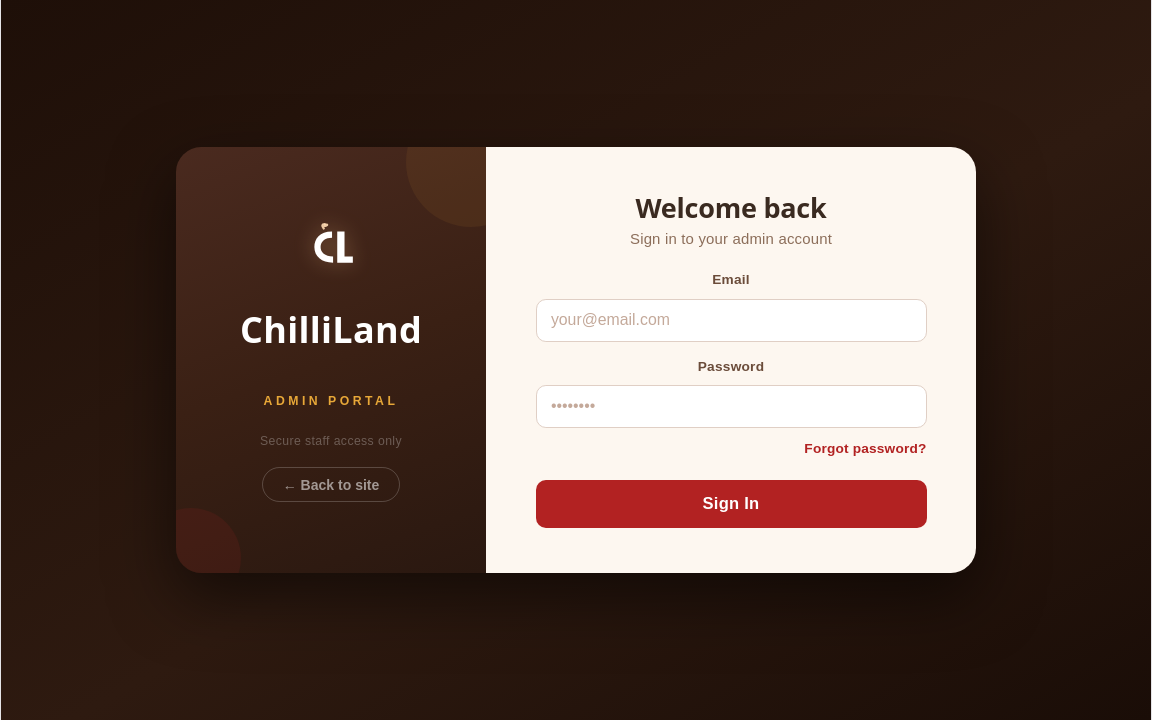
Auth — Login view › shows server error message on failed login
In the field labelled "Email": (731, 320) [536, 299, 926, 342], type "admin@example.com"
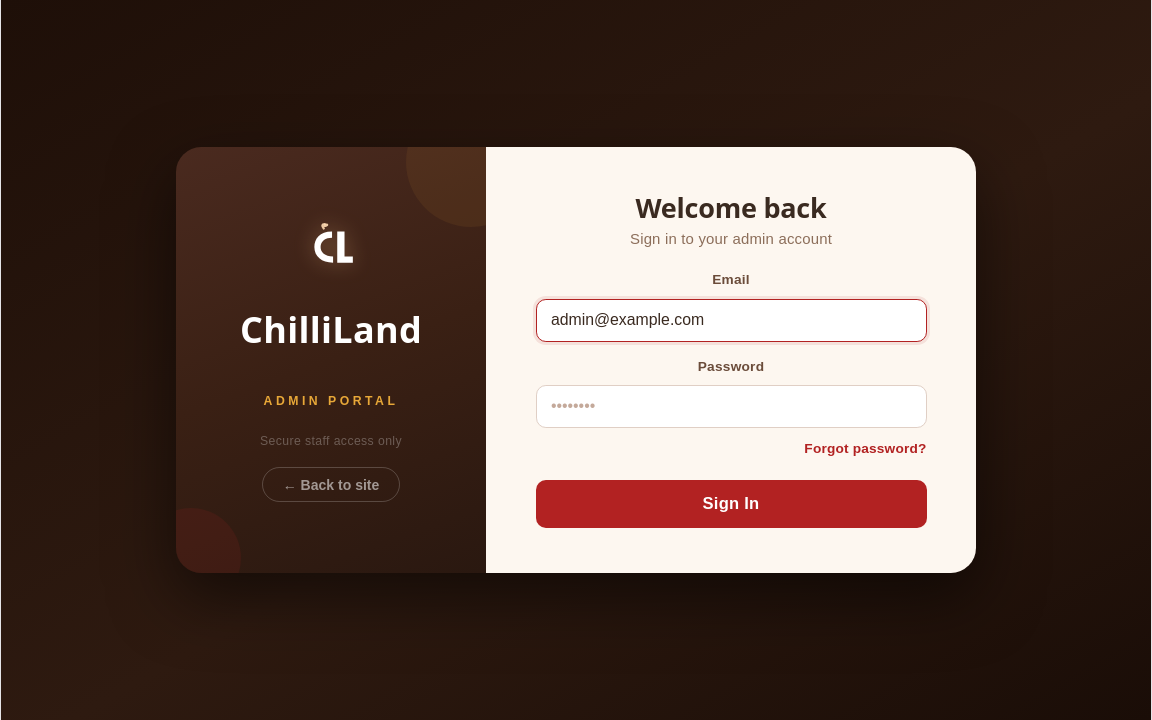
In the password field labelled "Password": (731, 406) [536, 385, 926, 428], type "wrong"
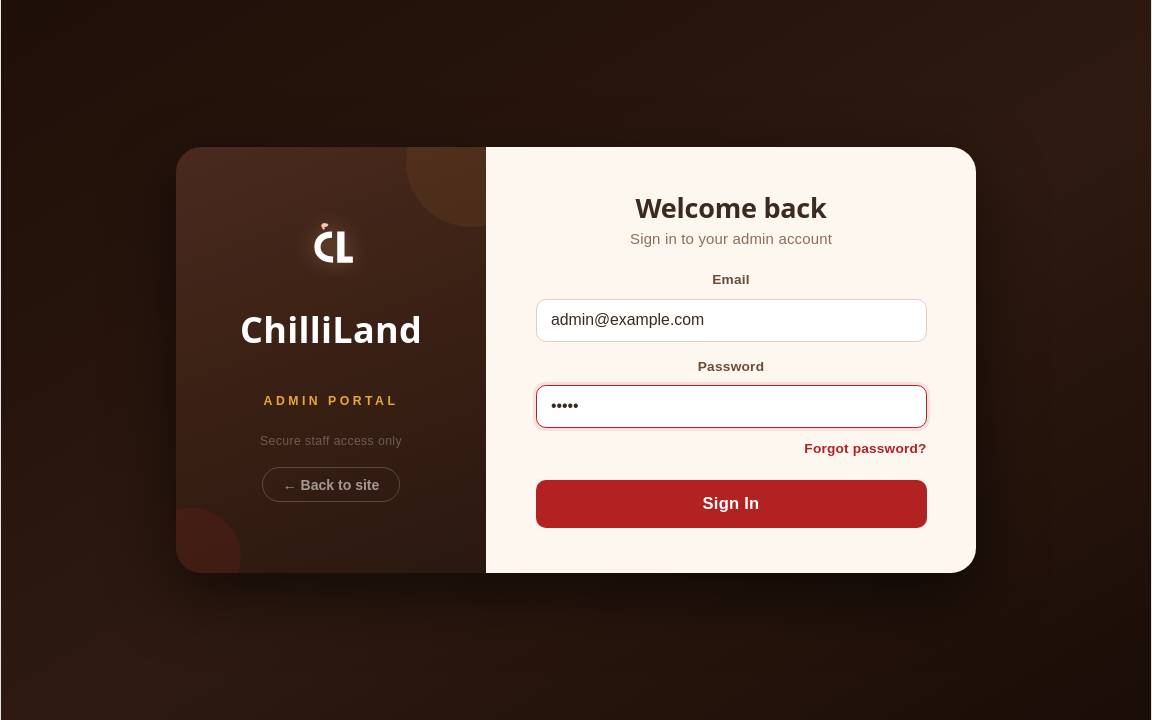
Click the button "Sign In": (731, 504) [536, 480, 926, 528]
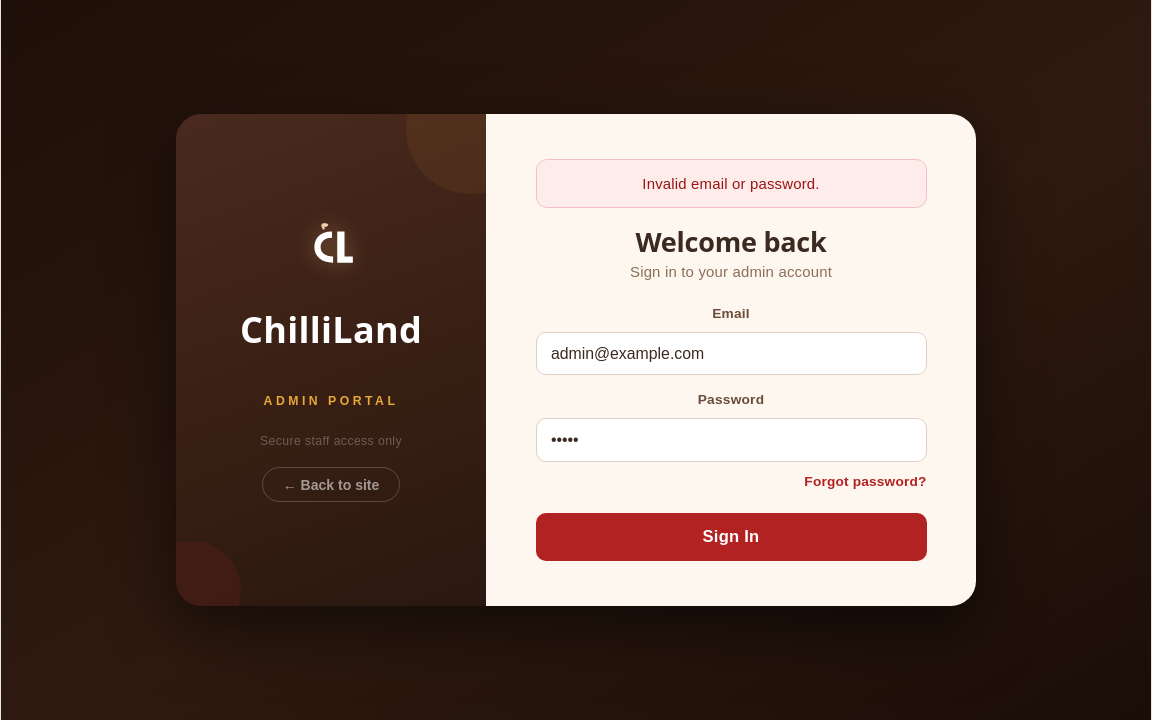
Expected: the message reads "Invalid email or password.", [642, 174, 820, 192]
